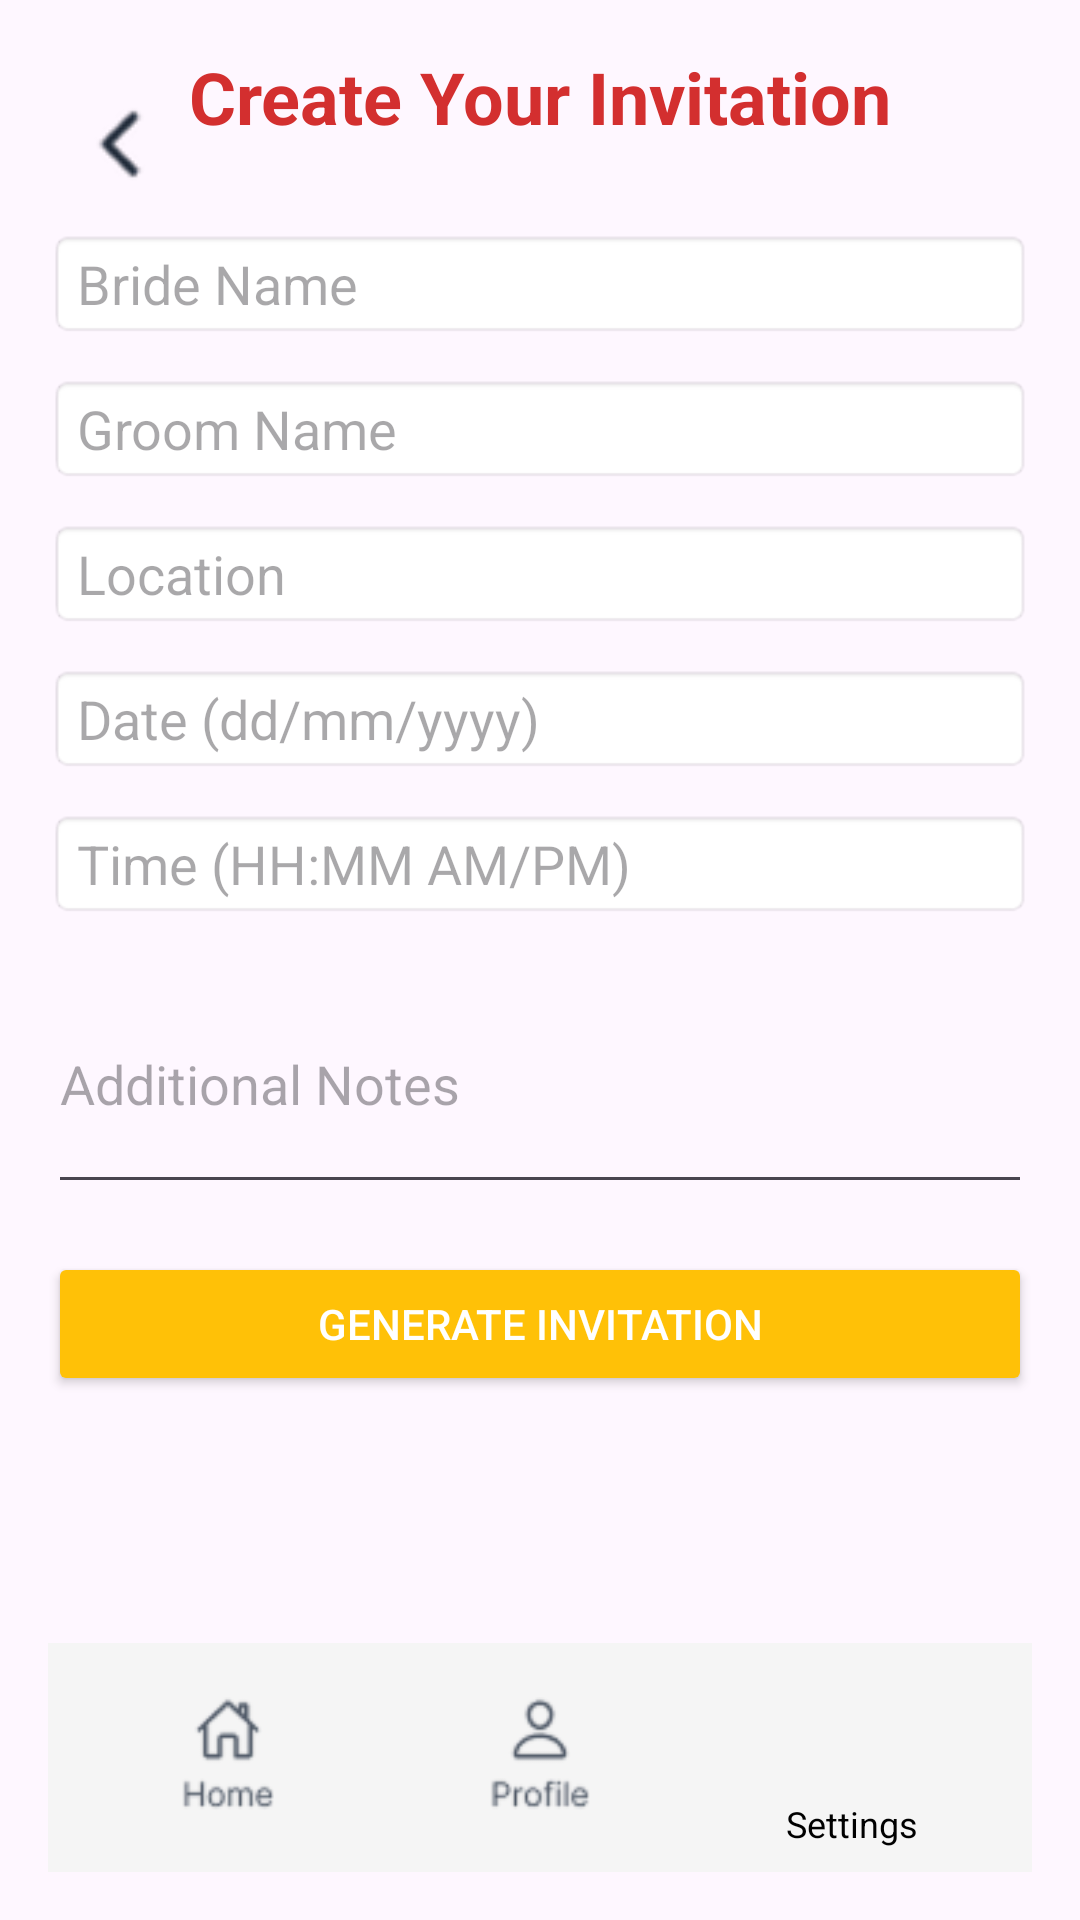

Where to tap for icons on this 1080×1920 app screen, as point (x, y):
Back: point (120, 144)
